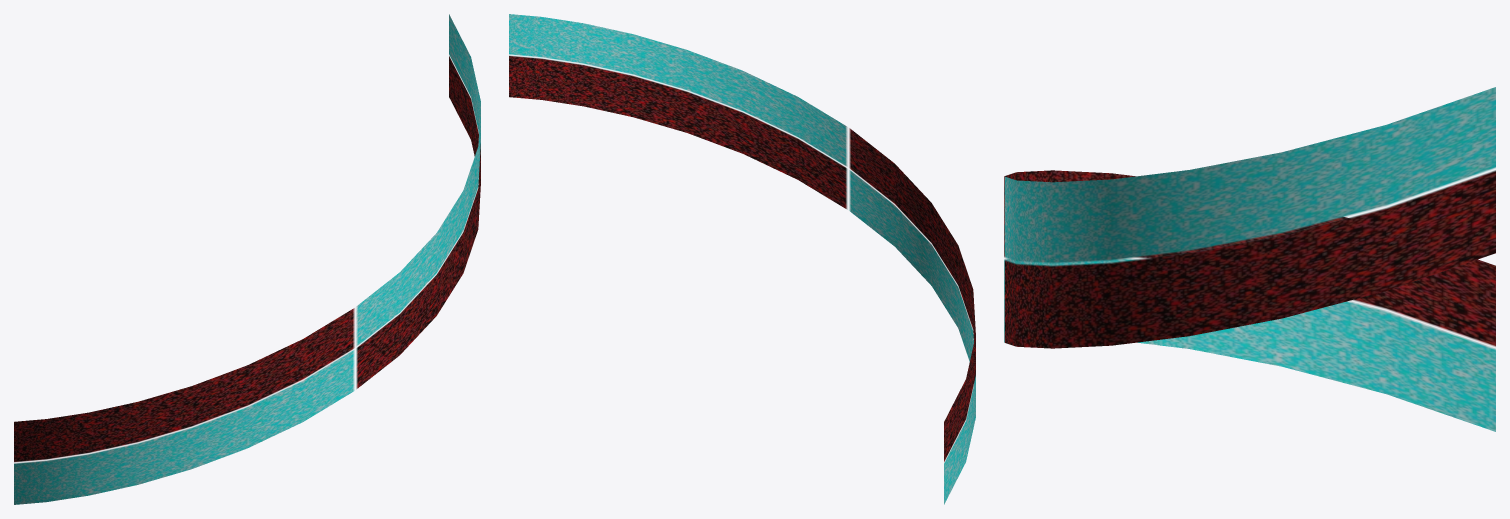
3 renders of one model, left to right at view 1: azimuth 30°, elevation 25°; view 2: azimuth 150°, elevation 25°; view 3: azimuth 270°, elevation 25°, orthographic. The views are drawn at different scales.
Parts seen in each view (by area): view 1: SM_VFX_Swirl02_LOD0; view 2: SM_VFX_Swirl02_LOD0; view 3: SM_VFX_Swirl02_LOD0.
Boxes of the visible parts, x1,y1,x2,y2 form: SM_VFX_Swirl02_LOD0: (14, 14, 480, 504); SM_VFX_Swirl02_LOD0: (509, 14, 975, 504); SM_VFX_Swirl02_LOD0: (1004, 87, 1495, 431).
Size of the model in its own units: 0.8064 by 0.6816 by 0.3946.
Materials: 1 (1 with a texture image).
